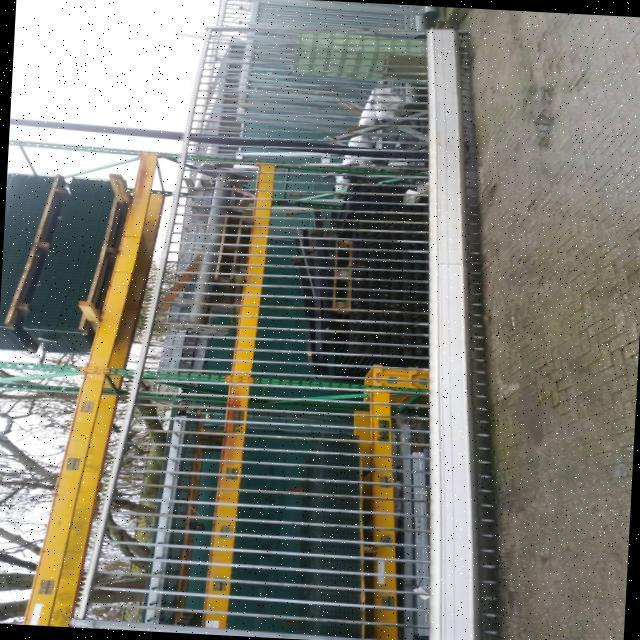fence line: (80, 140, 456, 632), (181, 0, 440, 177)
